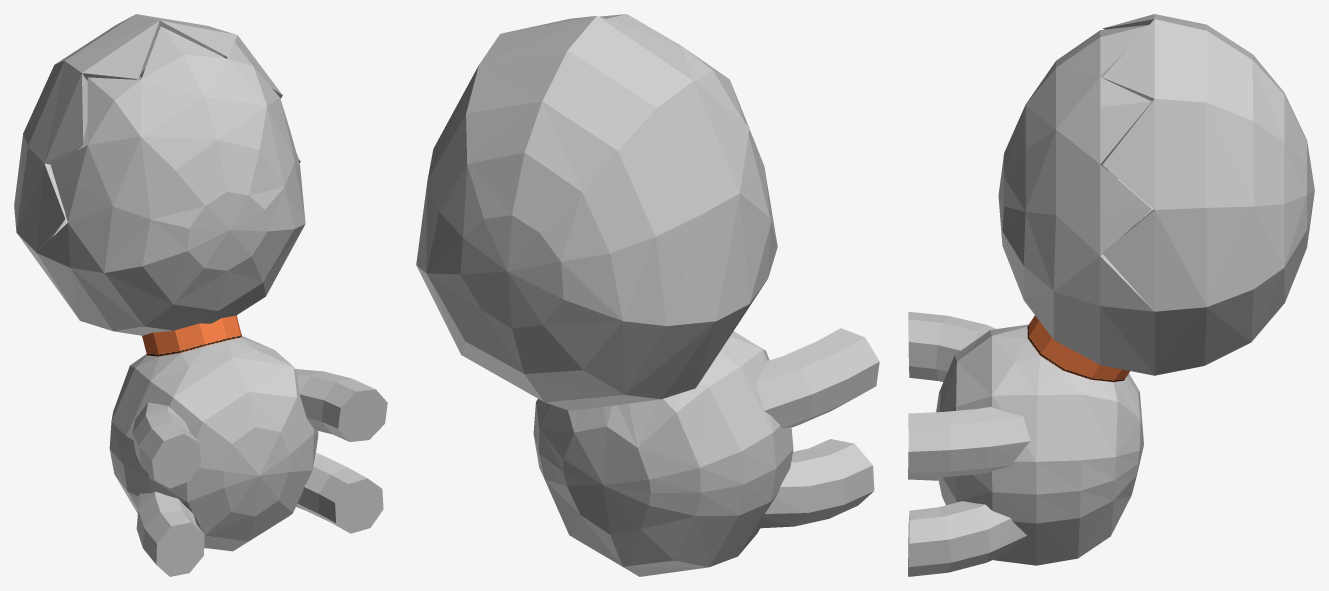
File: BR_Trapinch.obj
3 renders of one model, left to right at view 1: azimuth 30°, elevation 25°; view 2: azimuth 150°, elevation 25°; view 3: azimuth 270°, elevation 25°, orthographic. The views are drawn at different scales.
Visible parts, largest first — view 1: nuckrar; view 2: nuckrar; view 3: nuckrar.
Boxes of the visible parts, box(x1,y1,x2,y2) form: nuckrar: box(14, 14, 387, 576); nuckrar: box(416, 14, 879, 576); nuckrar: box(908, 14, 1314, 576).
Bounding box in the file's own units: 5.49 × 10.33 × 7.04.
